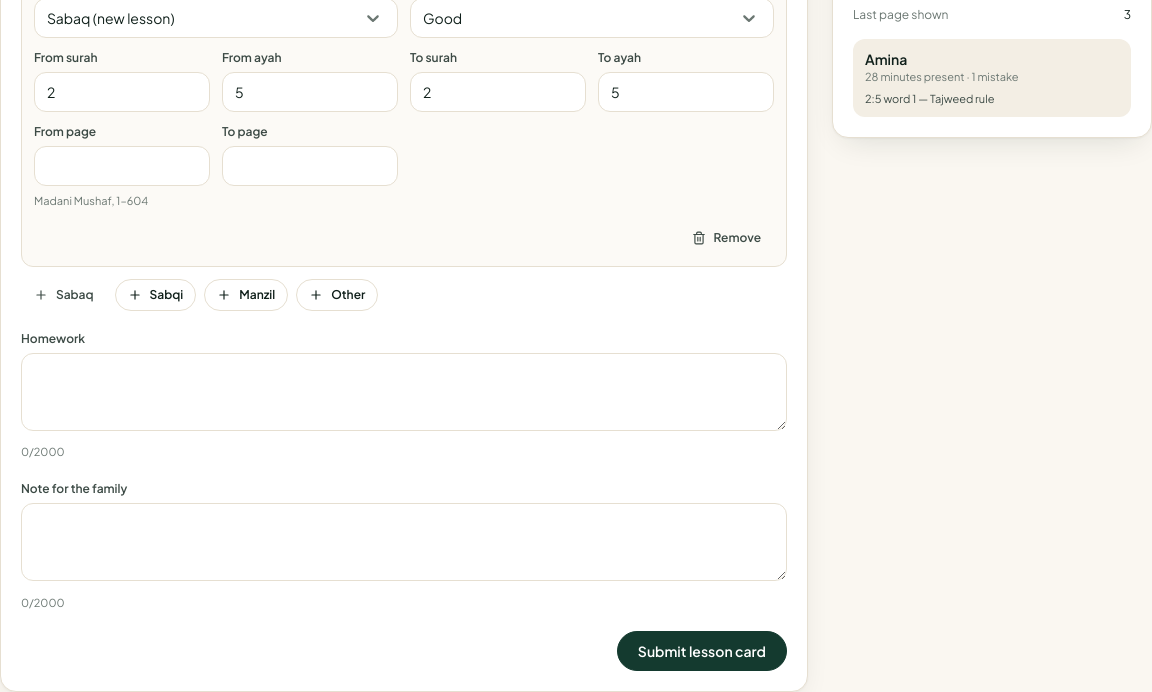
Test: LessonCardComposer › shows a failed submit as an error toast, not inline, and keeps the form
(page scrolled)
Click the button "Submit lesson card": (702,651) x1=617 y1=631 x2=787 y2=671
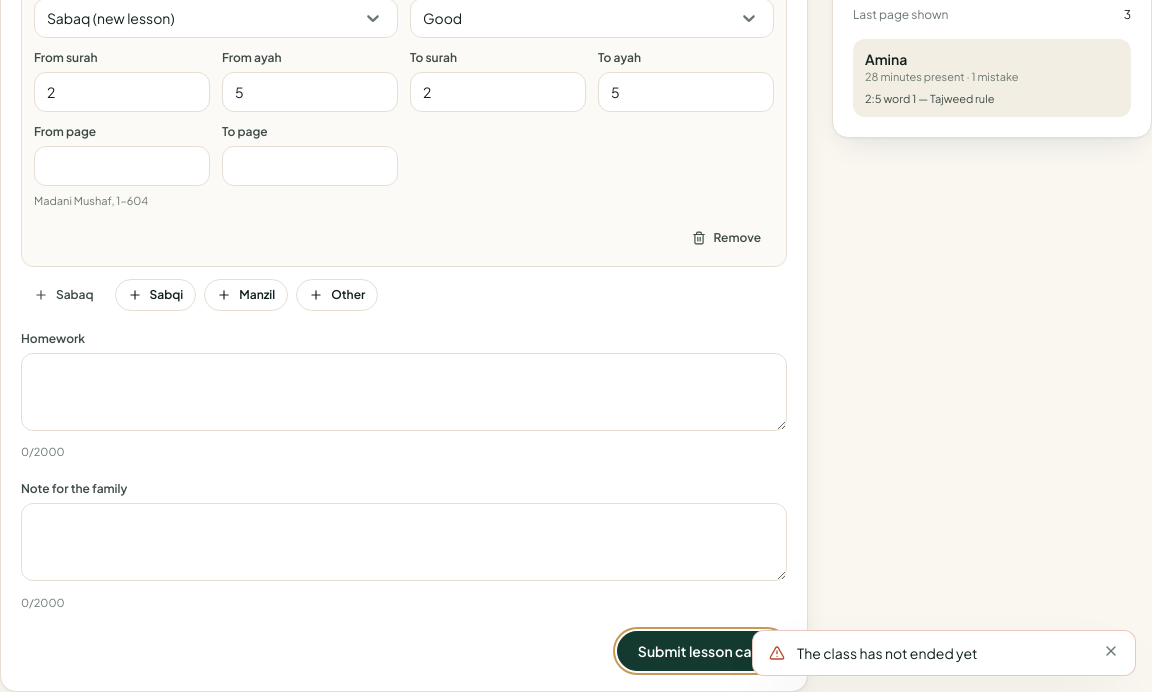
Expected: the number field with id "lesson-card-fromSurah-0" holds "2", x1=34 y1=72 x2=210 y2=112
Now the text "The class has not ended yet" is shown once, box x1=797 y1=644 x2=978 y2=662
Now the number of messages is 1, box x1=752 y1=630 x2=1136 y2=676
